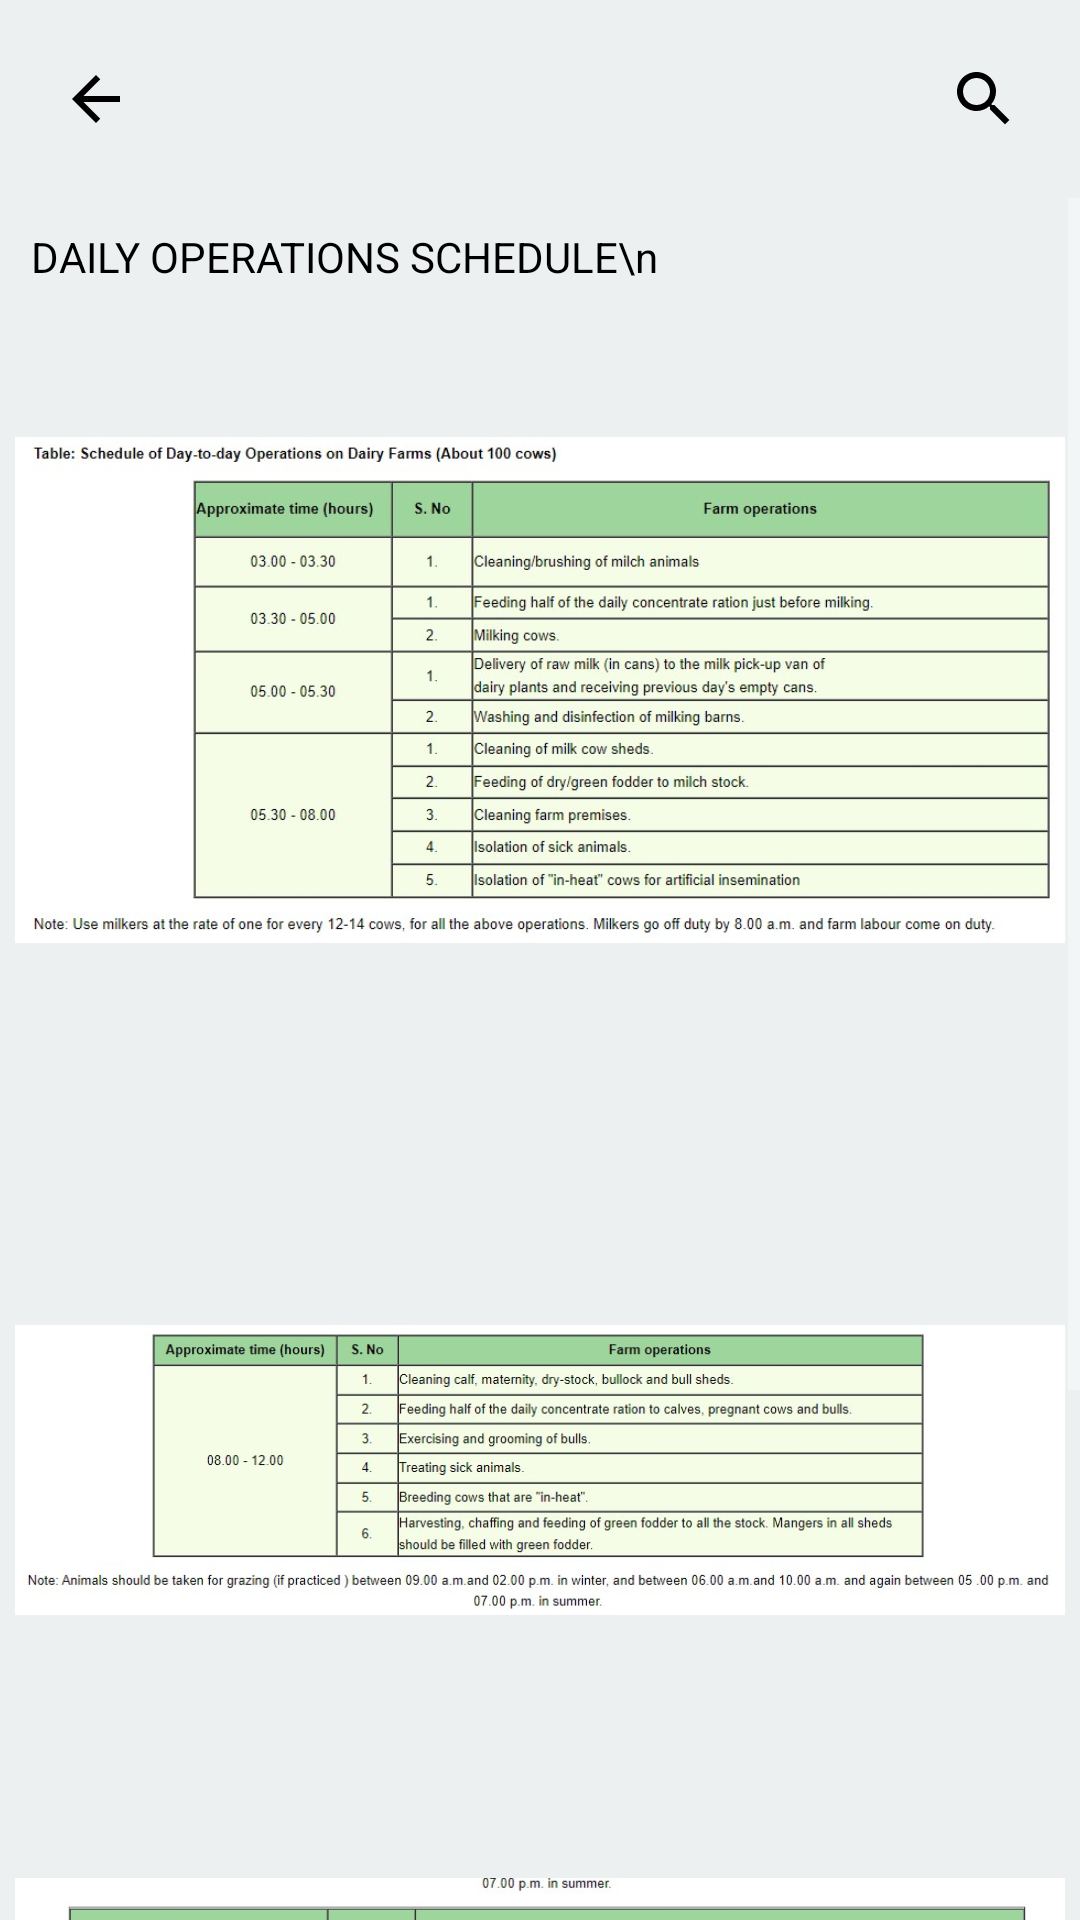

Icon bounding boxes for this 1080w x 1920h phone screenshot, format (x1, y1, x2, y2):
arrow back: (72, 75, 120, 123)
search: (957, 72, 1009, 124)
